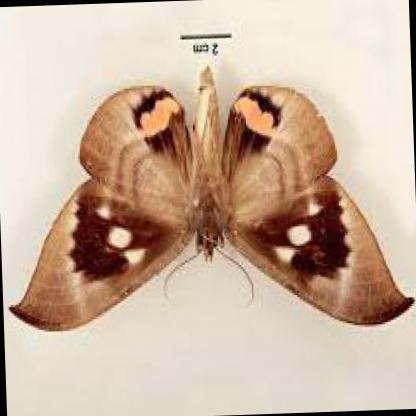fruit sucking moth: (10, 68, 415, 331)
